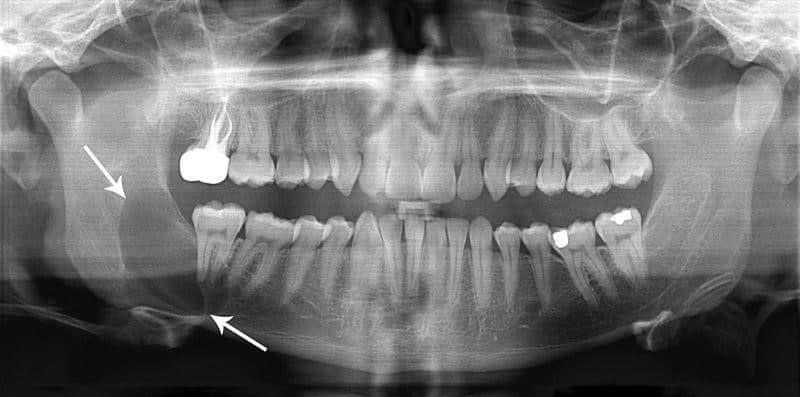canine: (352, 202, 383, 320), (467, 207, 498, 322), (325, 106, 357, 202), (485, 95, 511, 204)
incisor: (425, 102, 459, 203), (389, 112, 425, 203), (359, 110, 389, 201), (444, 214, 468, 320), (401, 212, 426, 313), (378, 215, 404, 305), (462, 108, 485, 207), (426, 208, 444, 317)
molar: (551, 216, 616, 322), (594, 205, 664, 287), (177, 82, 228, 189), (238, 195, 281, 314), (190, 198, 241, 298), (601, 95, 652, 190), (229, 97, 277, 190), (568, 111, 609, 197)
premolar: (272, 92, 306, 199), (509, 91, 539, 209), (518, 214, 553, 312), (286, 211, 318, 310), (323, 214, 353, 309), (304, 99, 331, 195), (538, 93, 562, 201), (498, 216, 521, 327)
